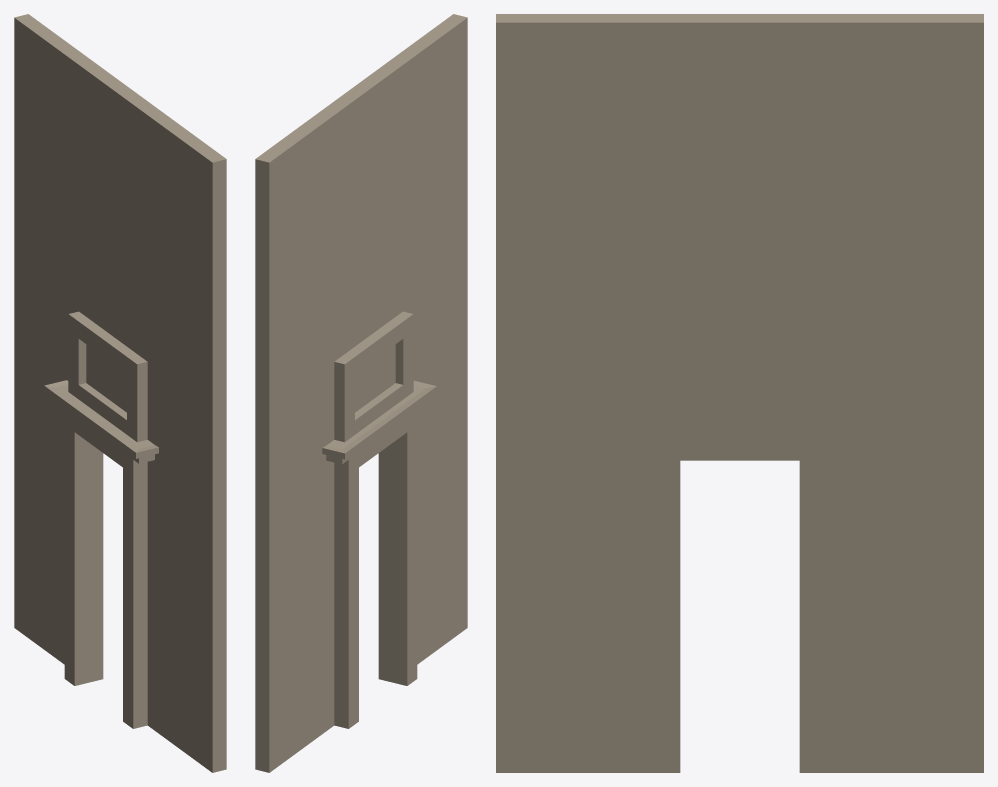
File: SM_Door_Square.FBX
3 renders of one model, left to right at view 1: azimuth 30°, elevation 25°; view 2: azimuth 150°, elevation 25°; view 3: azimuth 270°, elevation 25°, orthographic. The views are drawn at different scales.
Visible parts, largest first — view 1: SM_Door_Square; view 2: SM_Door_Square; view 3: SM_Door_Square.
Part boxes in pixels (x1,y1,x2,y2): SM_Door_Square: (14, 14, 226, 772); SM_Door_Square: (255, 14, 467, 772); SM_Door_Square: (496, 14, 983, 772).
Bounding box in the file's own units: 63.85 × 1004 × 591.
